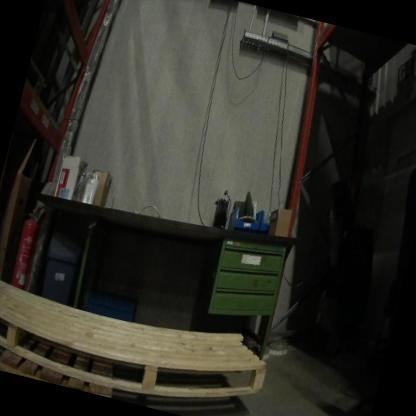pallet: (0, 258, 281, 416), (1, 346, 120, 394)
